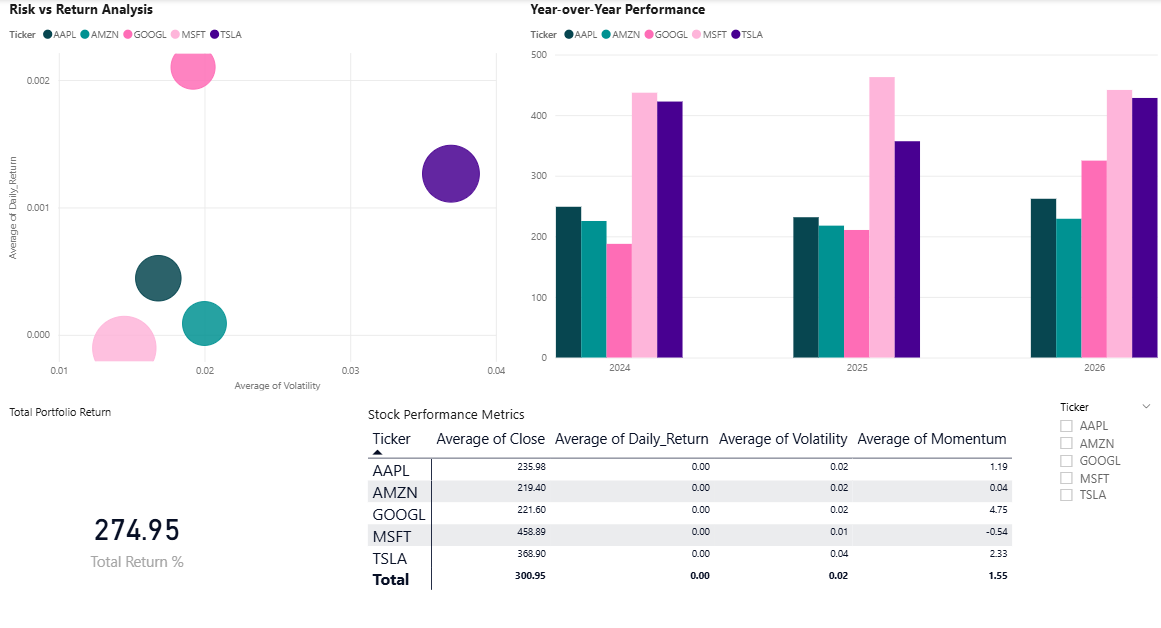

This screenshot's page, from the dashboard's own definition file:
{"tool":"powerbi","page":{"name":"Risk & Returns","canvas":[1280,720],"ordinal":2},"visuals":[{"type":"scatterChart","title":"Risk vs Return Analysis","fields":{"X":["Avg(all_stocks_combined.Volatility)"],"Y":["Avg(all_stocks_combined.Daily_Return)"],"Series":["all_stocks_combined.Ticker"],"Size":["Avg(all_stocks_combined.Close)"]},"box":[9.6,0,554.4,435],"z":0},{"type":"card","title":"Total Portfolio Return","fields":{"Values":["all_stocks_combined.Total Return %"]},"box":[9.6,444.6,290.9,275.8],"z":1000},{"type":"pivotTable","title":"Stock Performance Metrics","fields":{"Rows":["all_stocks_combined.Ticker"],"Values":["Avg(all_stocks_combined.Close)","Avg(all_stocks_combined.Daily_Return)","Avg(all_stocks_combined.Volatility)","Avg(all_stocks_combined.Momentum)"]},"box":[403.4,444.6,752,214.1],"z":2000},{"type":"clusteredColumnChart","title":"Year-over-Year Performance","fields":{"Category":["all_stocks_combined.Year"],"Y":["Avg(all_stocks_combined.Close)"],"Series":["all_stocks_combined.Ticker"]},"box":[581.8,0,698.5,421.3],"z":3000},{"type":"slicer","fields":{"Values":["all_stocks_combined.Ticker"]},"box":[1155.4,435,124.9,137.2],"z":3001}]}

Visuals, with their boxes on the page's 1280x720 design canvas (x1, y1, x2, y2). These are canvas units, not pixel positions in the 1161x628 screenshot, which may show the page scaled, cropped or inside an application window:
"Risk vs Return Analysis" scatterChart: [left=10, top=0, right=564, bottom=435]
"Total Portfolio Return" card: [left=10, top=445, right=300, bottom=720]
"Stock Performance Metrics" pivotTable: [left=403, top=445, right=1155, bottom=659]
"Year-over-Year Performance" clusteredColumnChart: [left=582, top=0, right=1280, bottom=421]
slicer - all_stocks_combined.Ticker: [left=1155, top=435, right=1280, bottom=572]
